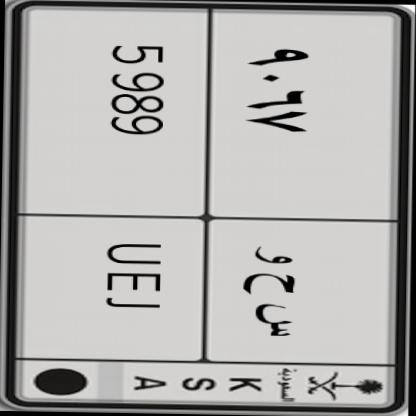english: (8, 3, 224, 368)
